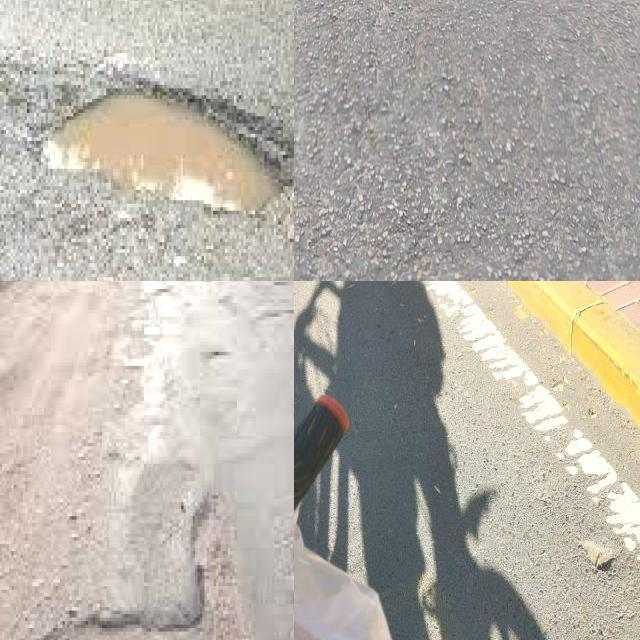Pothole: (43, 88, 294, 214), (581, 540, 621, 571)
